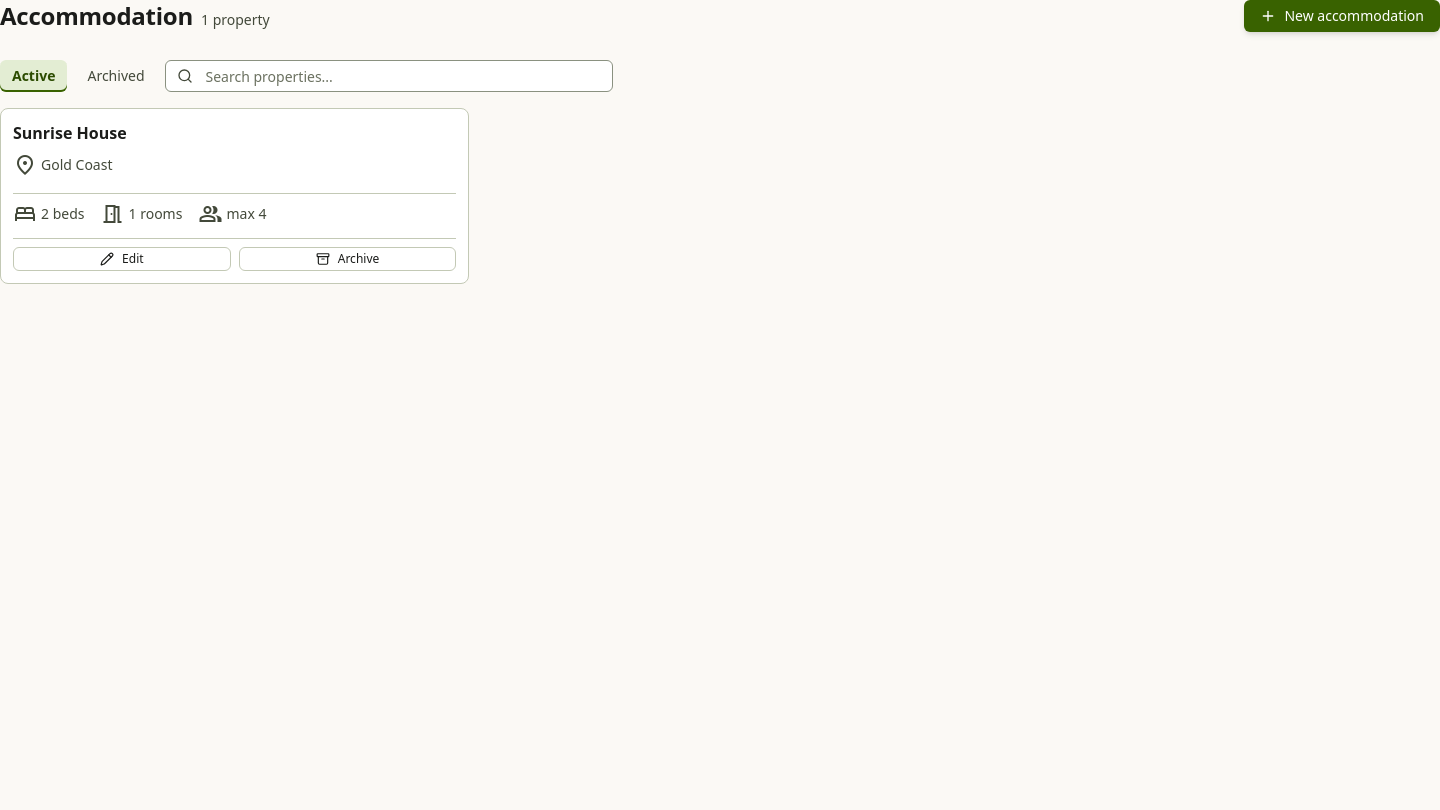
Test case: AccommodationPage — a refused archive or restore › closes the confirm on a refused restore too, with a fallback message
The width and height of the screenshot is (1440, 810).
Click the radio button labelled "Archived" at (116, 76), box x1=76 y1=60 x2=157 y2=92
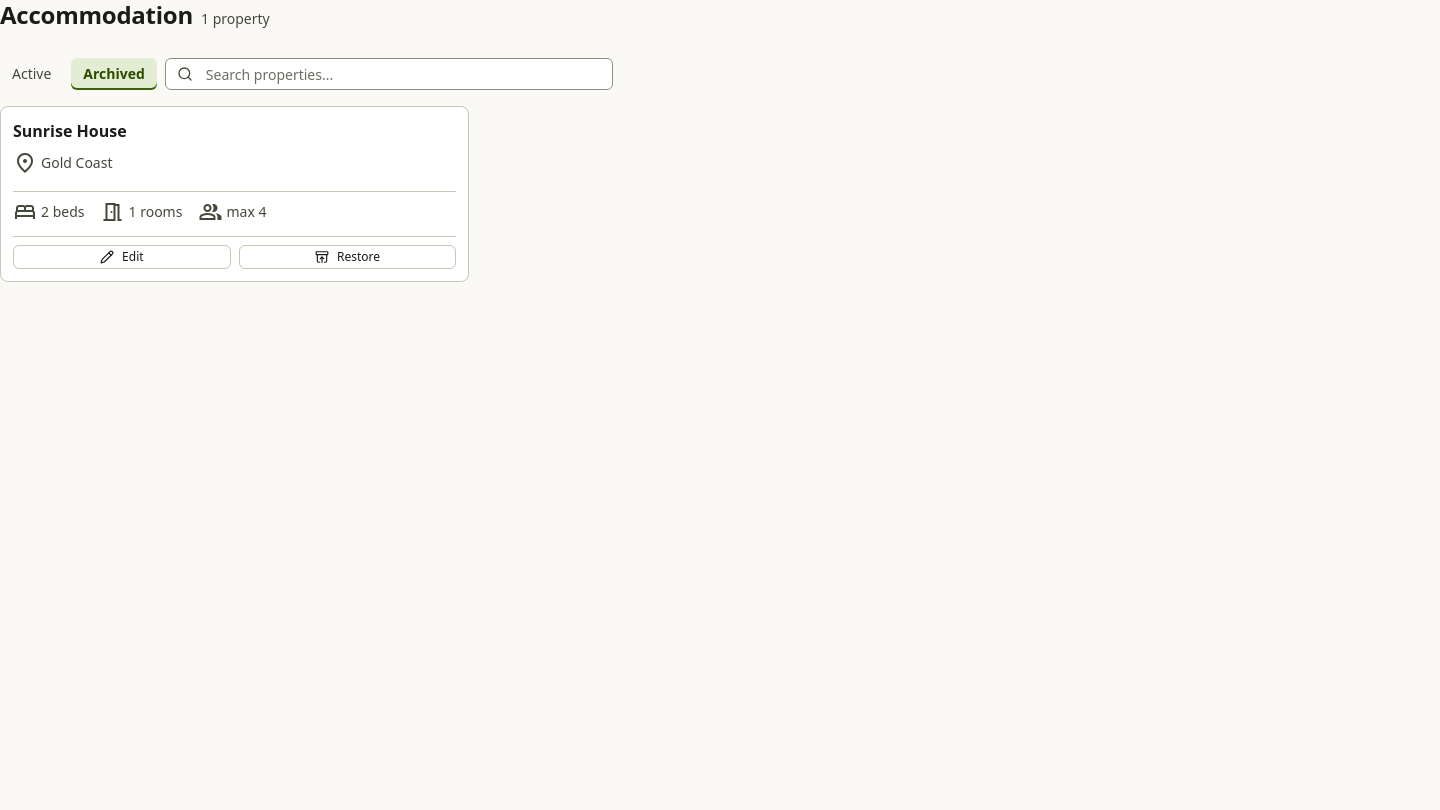
Click the button "Restore" at (348, 257), box x1=239 y1=245 x2=456 y2=269
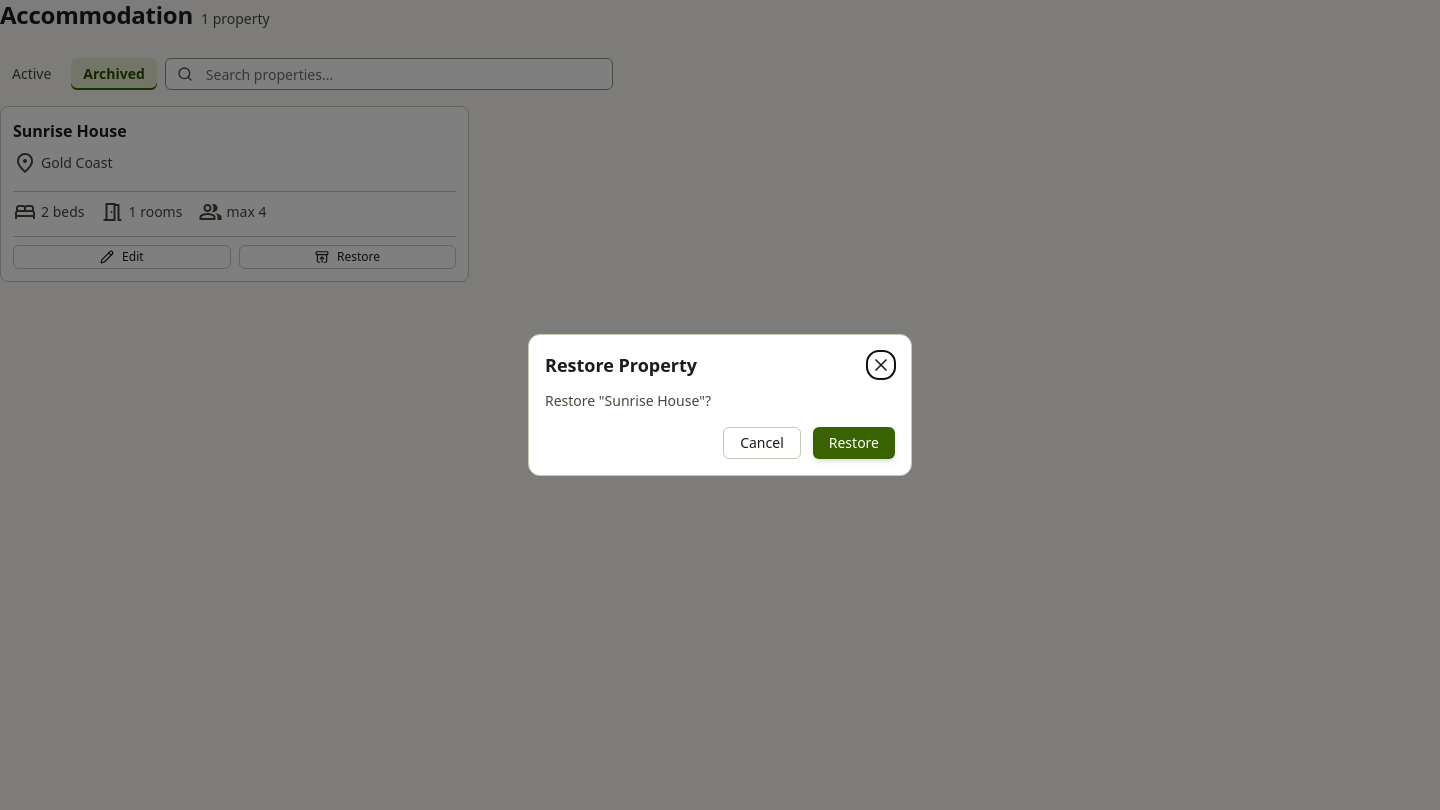
Click the button "Restore" at (854, 443), box x1=813 y1=427 x2=895 y2=459
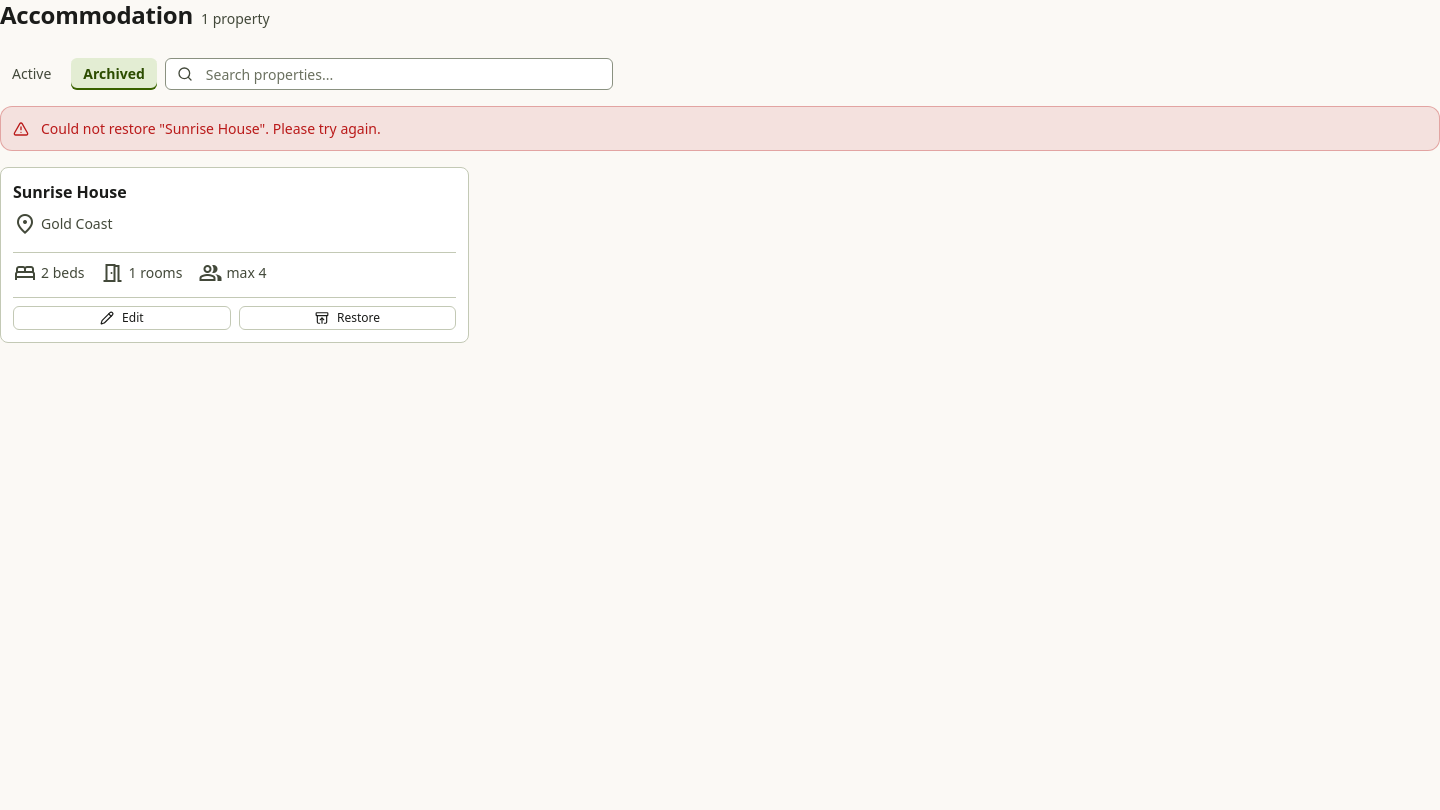
Result: the text "Could not restore \"Sunrise House\". Please try again." is shown at x1=41 y1=119 x2=381 y2=138
Result: the dialog is gone
